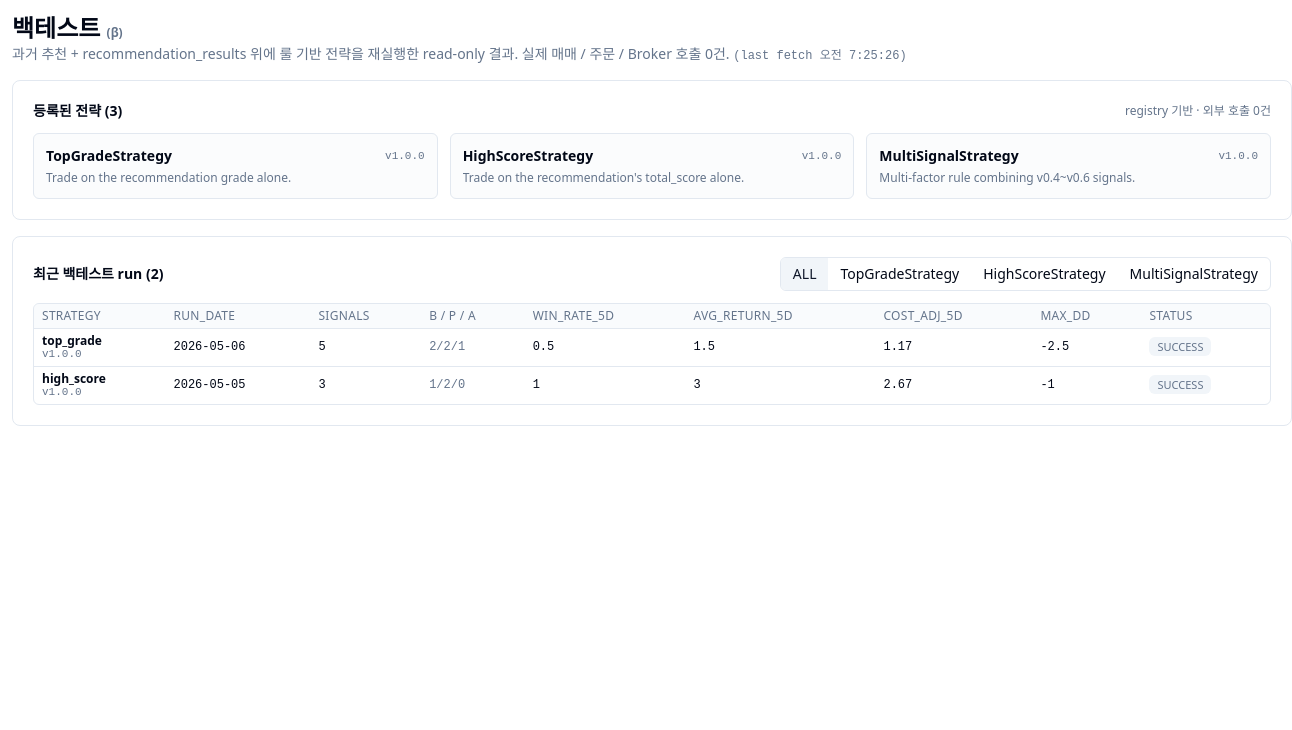
Test: BacktestPage › loads detail panel when a run row is clicked
This screenshot has width=1292, height=730.
Click the row with test id "backtest-run-row-42" at (652, 347), box x1=34 y1=328 x2=1270 y2=366
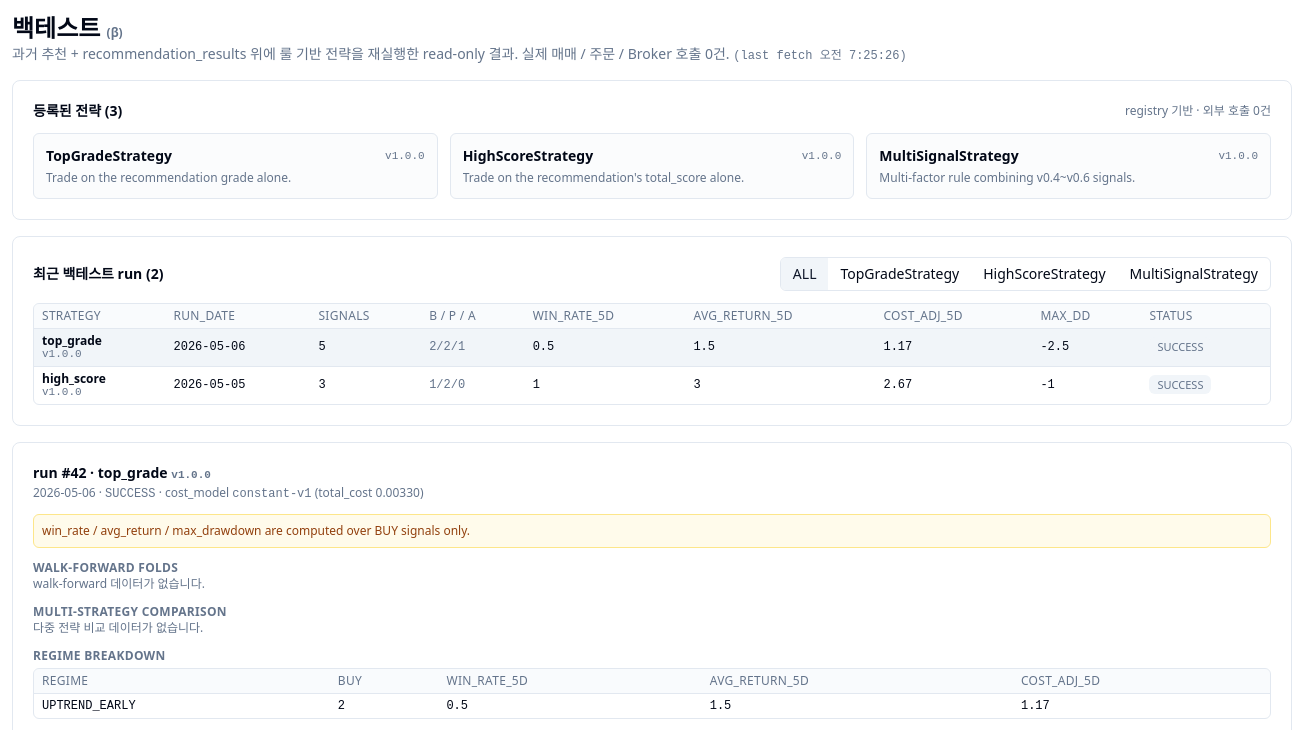
Expected: the text with test id "backtest-detail-cost-model" reads "constant-v1", x1=232 y1=486 x2=312 y2=500
Expected: the row with test id "backtest-regime-UPTREND_EARLY" is shown, x1=34 y1=693 x2=1270 y2=718
Expected: the text with test id "backtest-detail-notes" shows "BUY signals only", x1=42 y1=522 x2=470 y2=538
